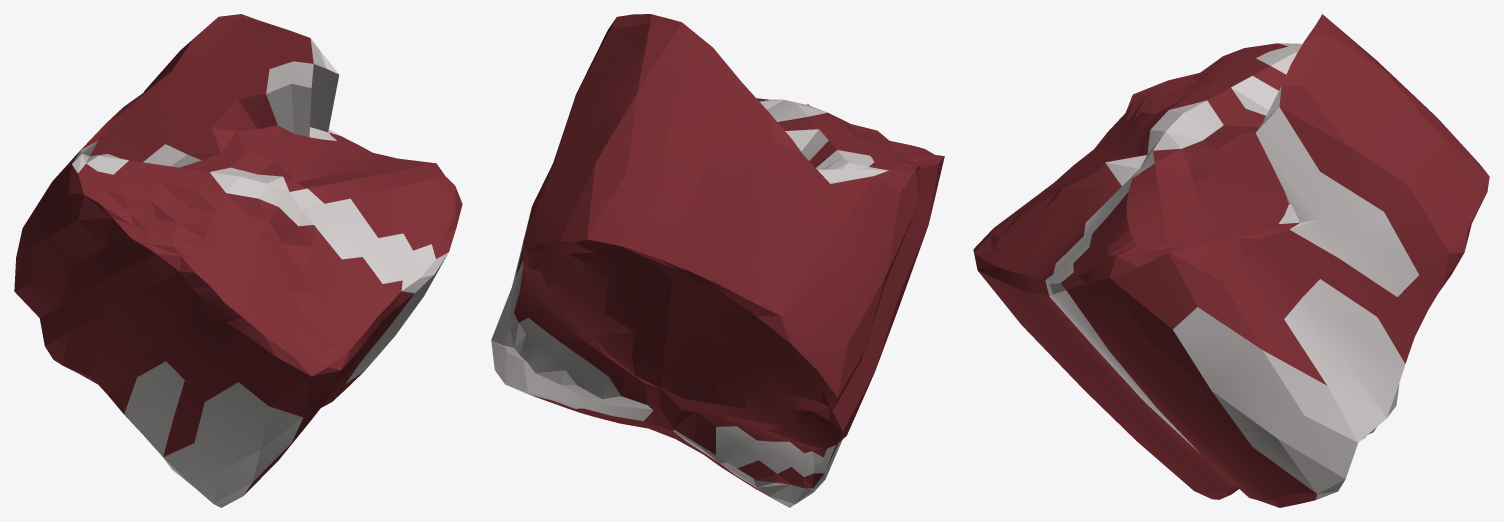
The model's file is small-promethium-asteroid.glb.
3 renders of one model, left to right at view 1: azimuth 30°, elevation 25°; view 2: azimuth 150°, elevation 25°; view 3: azimuth 270°, elevation 25°, orthographic. The views are drawn at different scales.
Parts seen in each view (by area): view 1: body; view 2: body; view 3: body.
Part boxes in pixels (bbox=[...]): body: bbox=[14, 14, 462, 507]; body: bbox=[491, 14, 944, 507]; body: bbox=[973, 14, 1489, 507].
Size of the model in its own units: 1.41 by 1.79 by 1.64.
